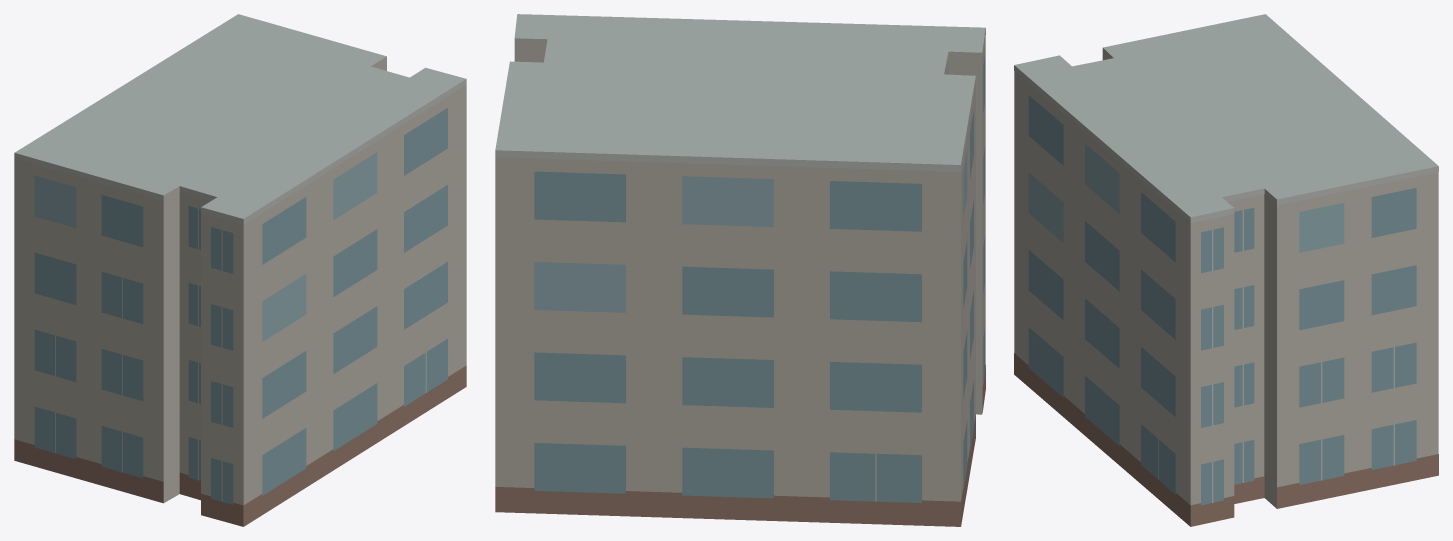
File: survey-upis-32745156.glb
3 renders of one model, left to right at view 1: azimuth 30°, elevation 25°; view 2: azimuth 150°, elevation 25°; view 3: azimuth 270°, elevation 25°, orthographic. The views are drawn at different scales.
Visible parts, largest first — view 1: survey-upis-32745156.tmp; view 2: survey-upis-32745156.tmp; view 3: survey-upis-32745156.tmp.
Part boxes in pixels (left/top/right/bottom): survey-upis-32745156.tmp: left=14, top=14, right=466, bottom=526; survey-upis-32745156.tmp: left=495, top=14, right=985, bottom=526; survey-upis-32745156.tmp: left=1014, top=14, right=1438, bottom=526.
Bounding box in the file's own units: 18.05 × 12.8 × 15.93.
